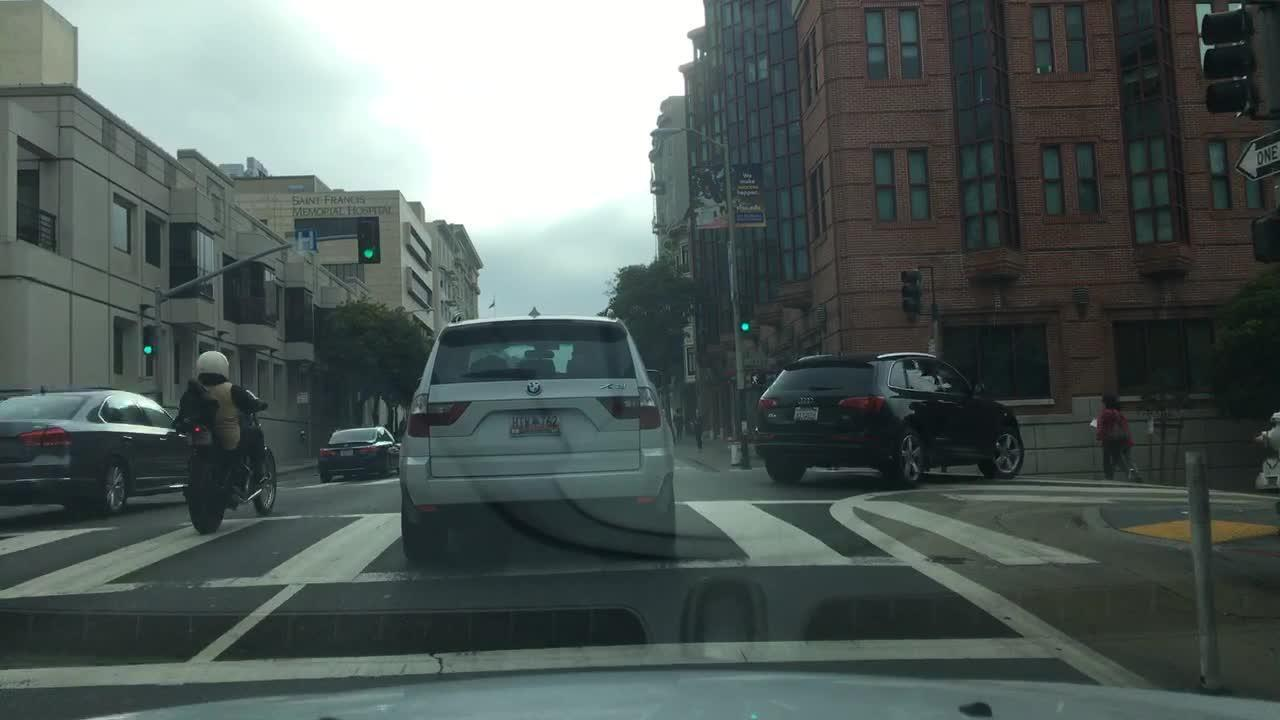Audi: (795, 394, 815, 408)
bmw: (521, 379, 550, 400)
